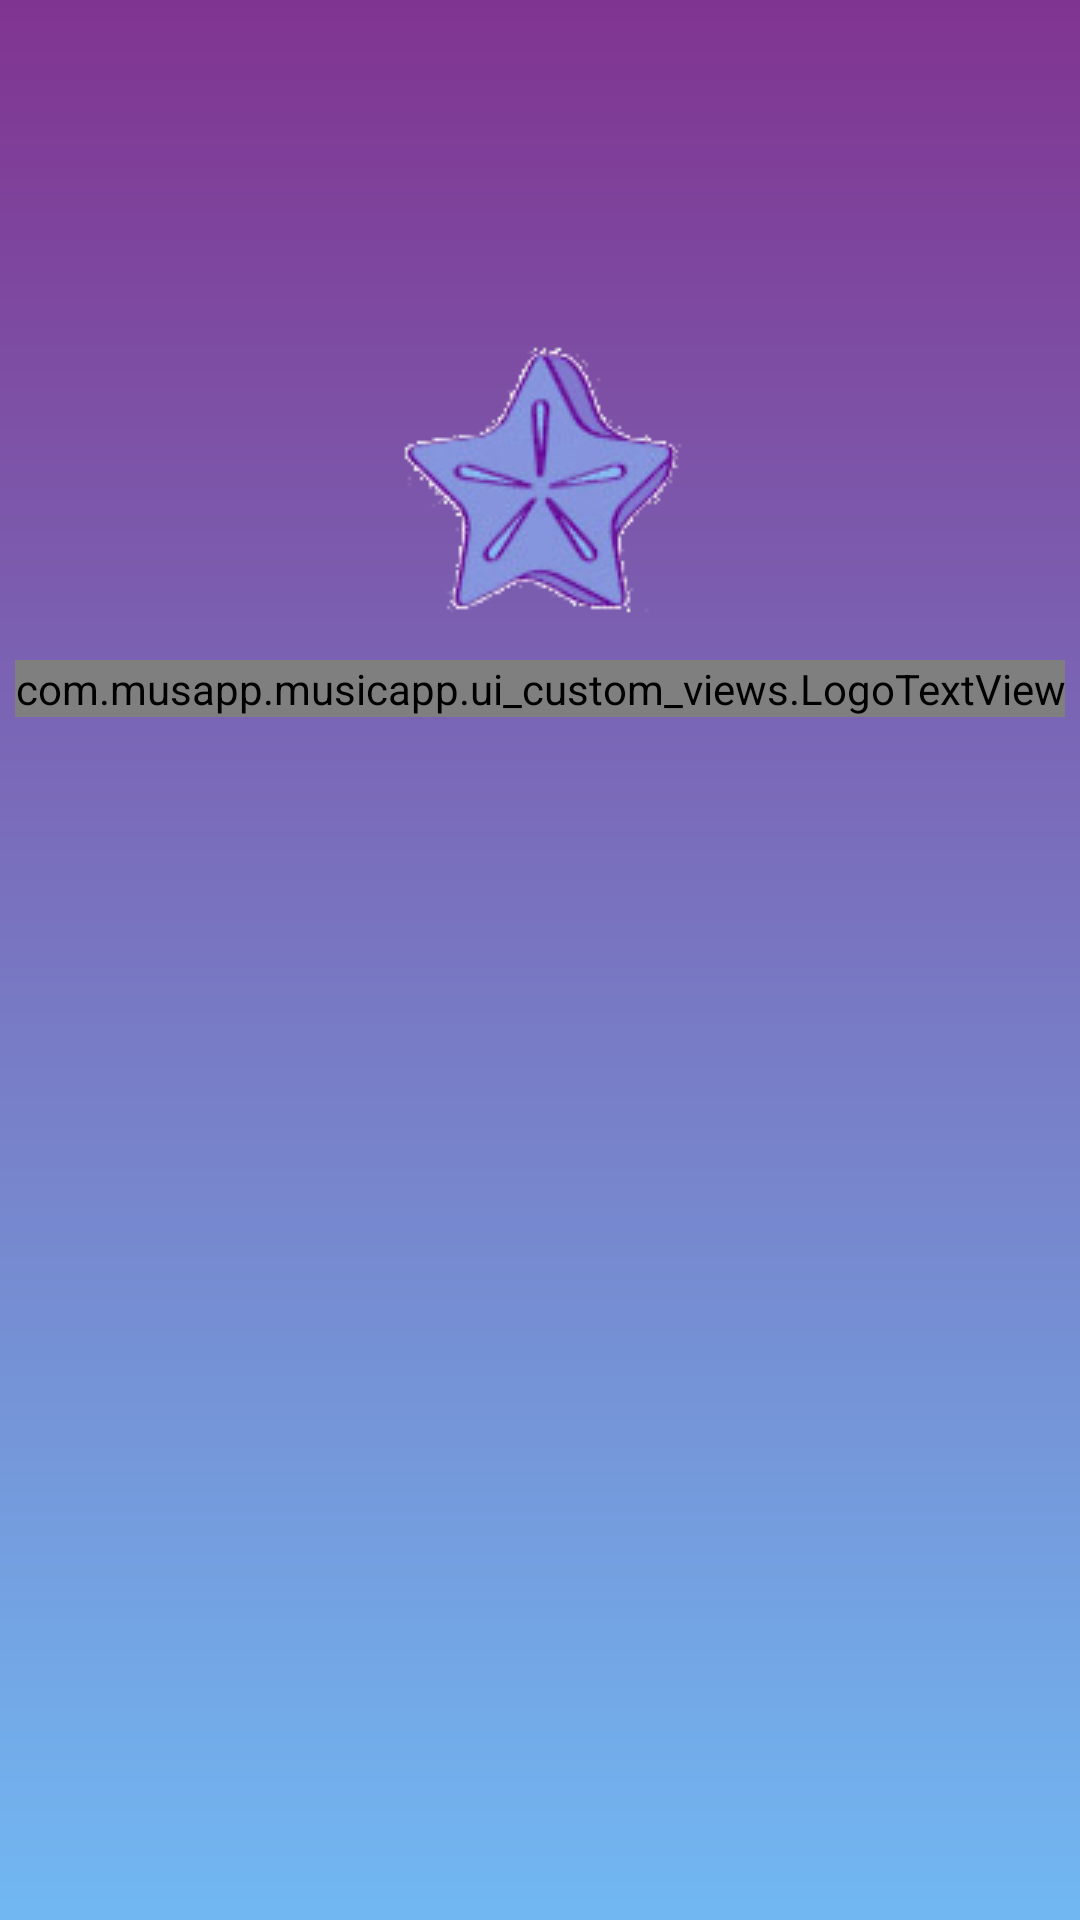

Icon bounding boxes for this 1080 x 1920 phone screenshot, format (x1, y1, x2, y2):
carambola: (404, 347, 681, 613)
